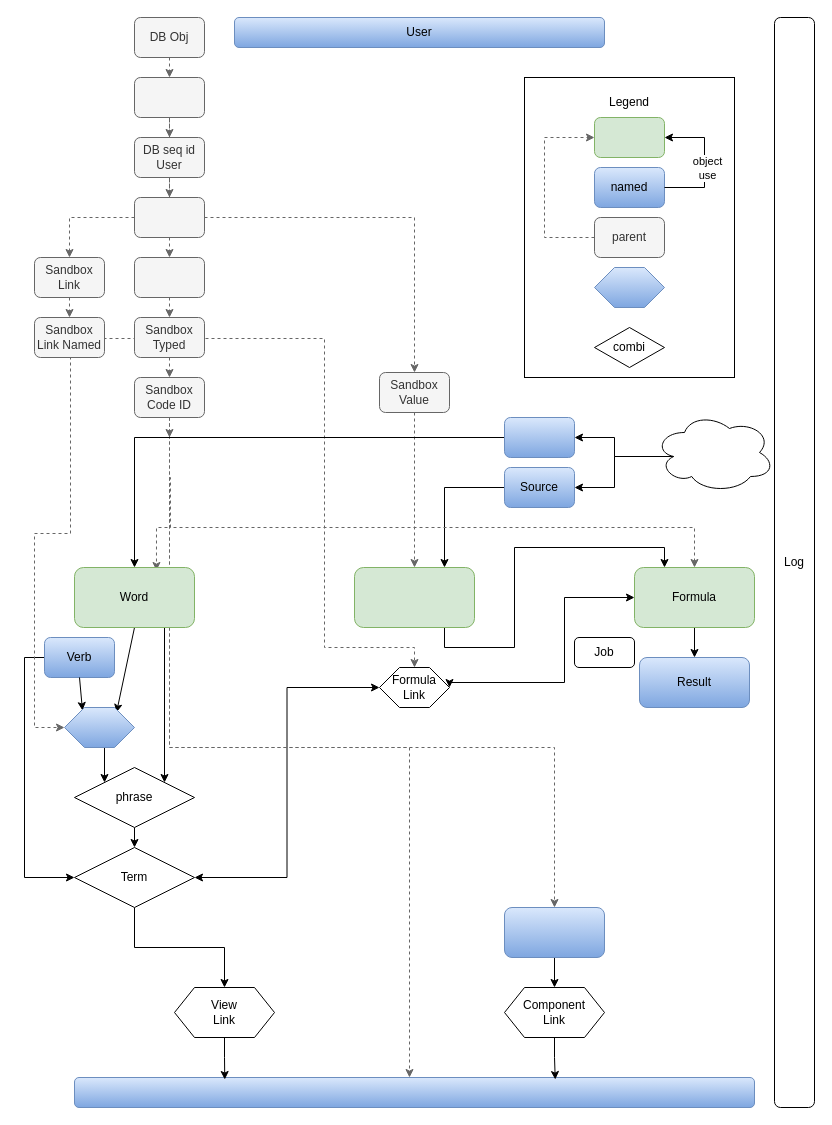
This 832x1125 diagram has some shape labels left out. Here are the shapes that lost their labels. From the top down, the centre of each, then its label:
At point 169,97: "DB Obj seq id".
At point 629,137: "main object".
At point 169,217: "Sandbox".
At point 169,277: "Sandbox Named".
At point 629,287: "Link".
At point 539,437: "Reference".
At point 714,452: "Internet".
At point 414,597: "Value".
At point 99,727: "Triple".
At point 554,932: "Component".
At point 414,1092: "View".
